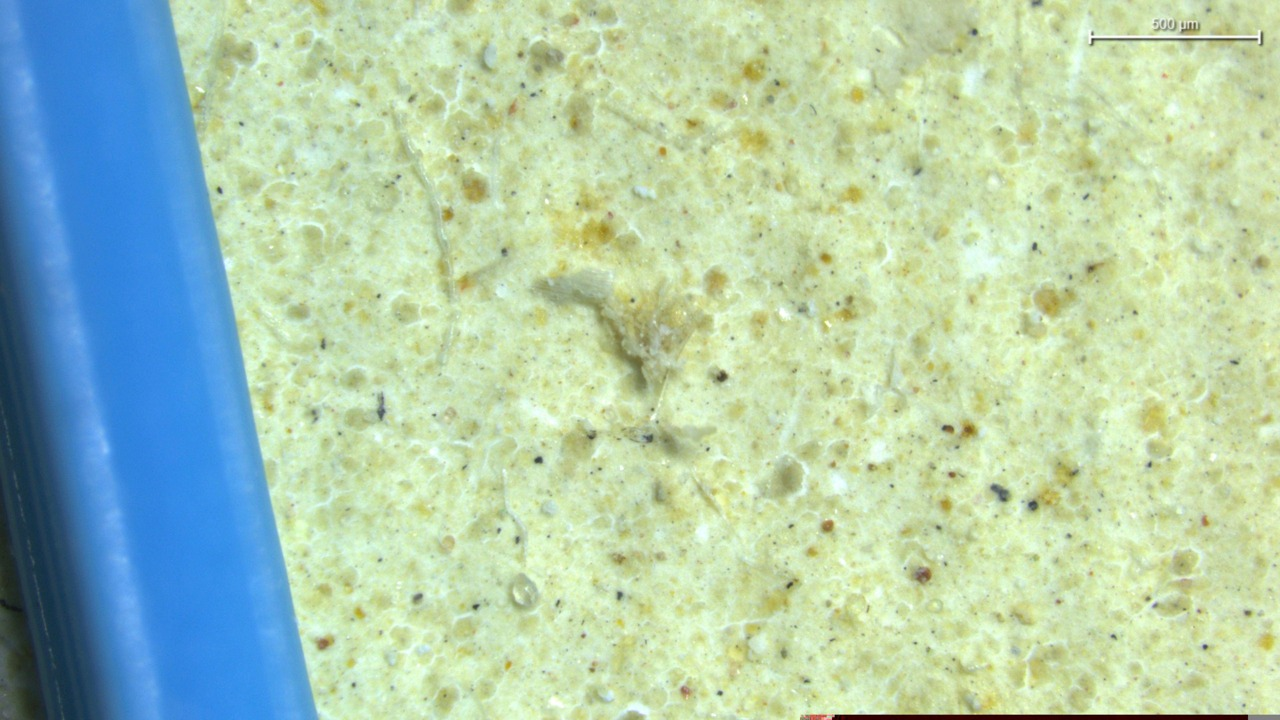microplastic_fragment: (533, 269, 613, 306)
